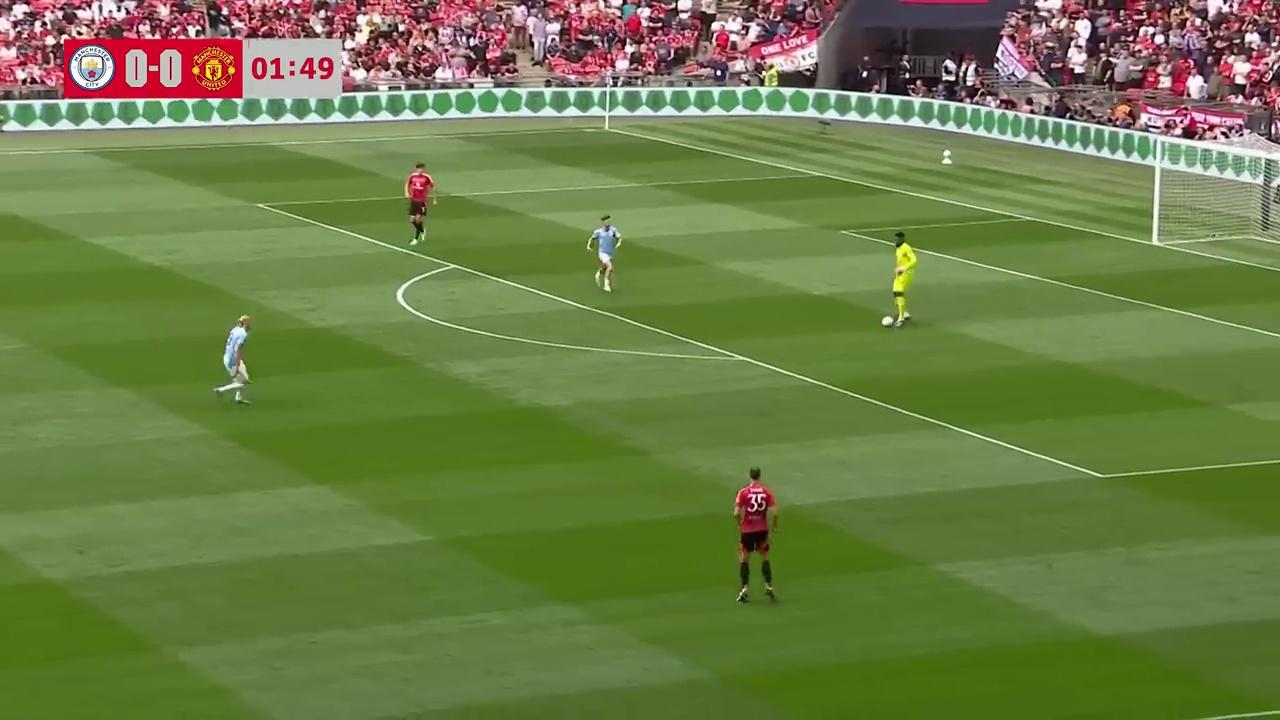ball: (879, 311, 896, 329)
player: (733, 466, 779, 606), (213, 314, 252, 403), (887, 231, 916, 327), (587, 214, 621, 291), (404, 162, 435, 245)
